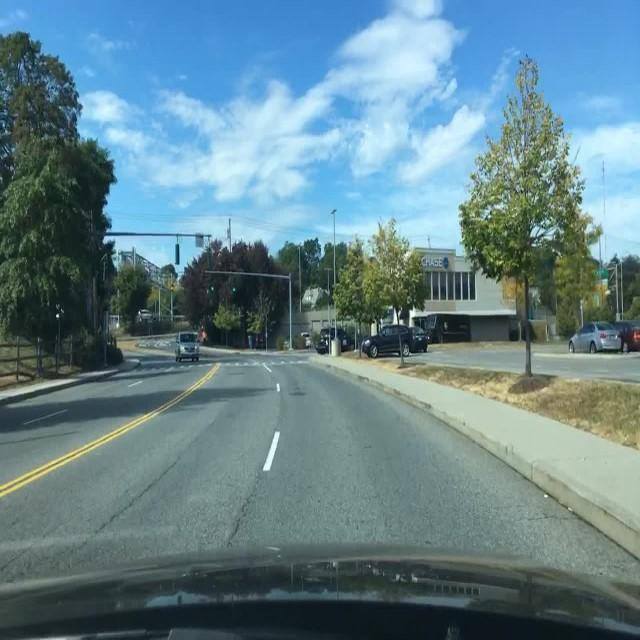normal: (360, 327, 429, 359), (567, 323, 625, 355)
